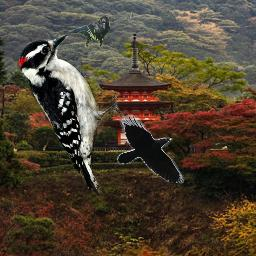Crow: (117, 114, 184, 183), (68, 16, 110, 49)
Woodpecker: (17, 34, 133, 194)
